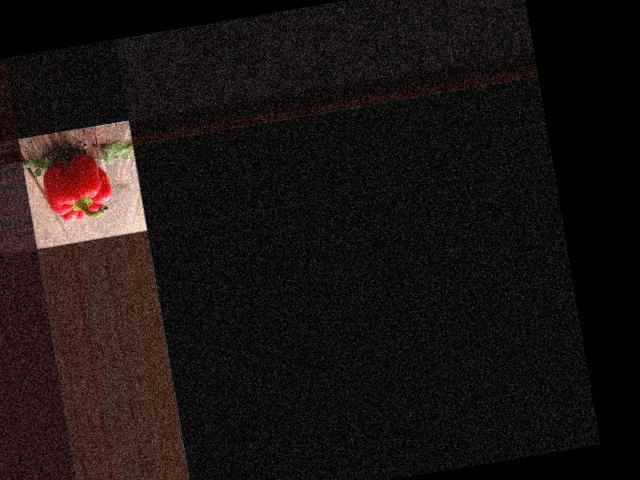bell_pepper: (34, 147, 119, 230)
